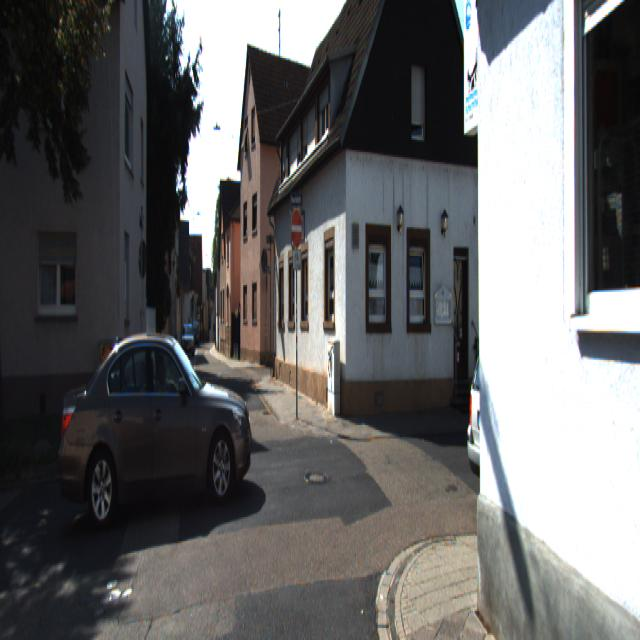Car: (62, 323, 250, 529)
